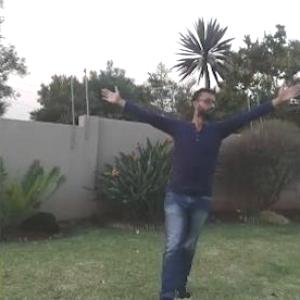takeoff: (72, 50, 299, 300)
